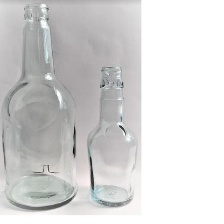bottle: (0, 1, 79, 211), (82, 62, 141, 208)
